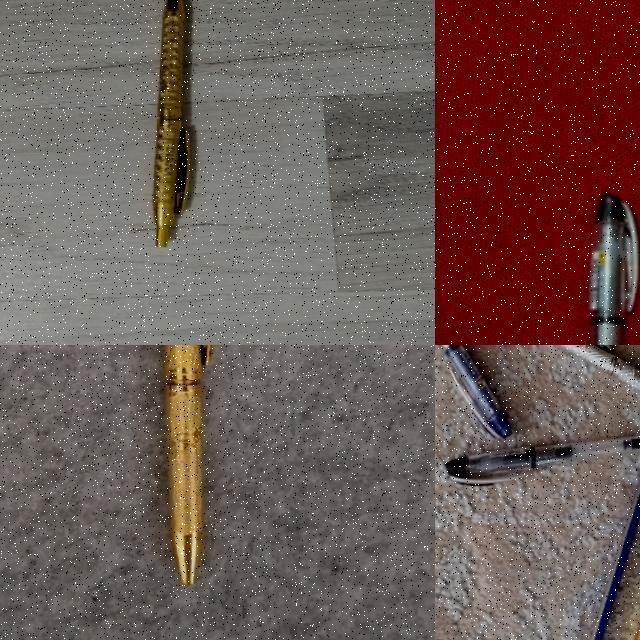pen: (447, 431, 640, 485), (587, 191, 640, 345), (435, 345, 514, 439)
pencil: (589, 479, 640, 640)
signature pen: (163, 345, 212, 583), (152, 0, 188, 246), (527, 345, 640, 421)
